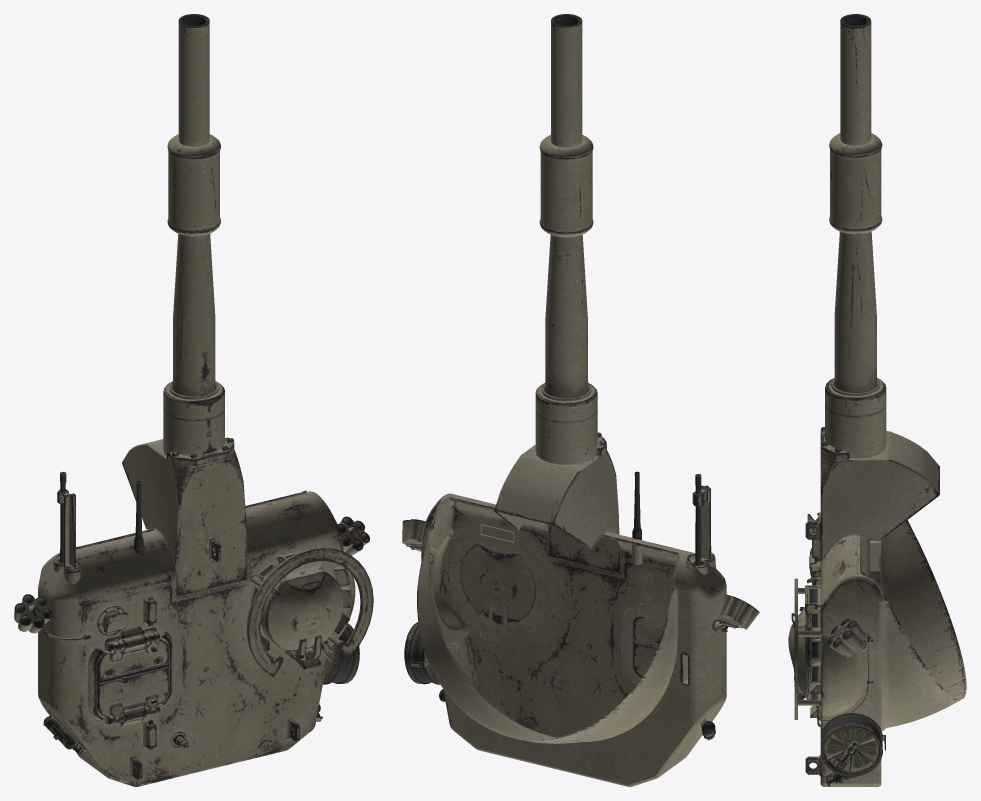
Rendered from Gun_01.glb.
The picture shows the model from 3 angles, left to right: view 1: azimuth 30°, elevation 25°; view 2: azimuth 150°, elevation 25°; view 3: azimuth 270°, elevation 25°; orthographic projection.
Visible parts, largest first — view 1: set_0_group_0; view 2: set_0_group_0; view 3: set_0_group_0.
Boxes of the visible parts, x1,y1,x2,y2 form: set_0_group_0: (14,14,373,786); set_0_group_0: (402,14,759,786); set_0_group_0: (788,14,966,786).
Size of the model in its own units: 2.56 by 5.15 by 1.14.
1 material, 1 textured.
